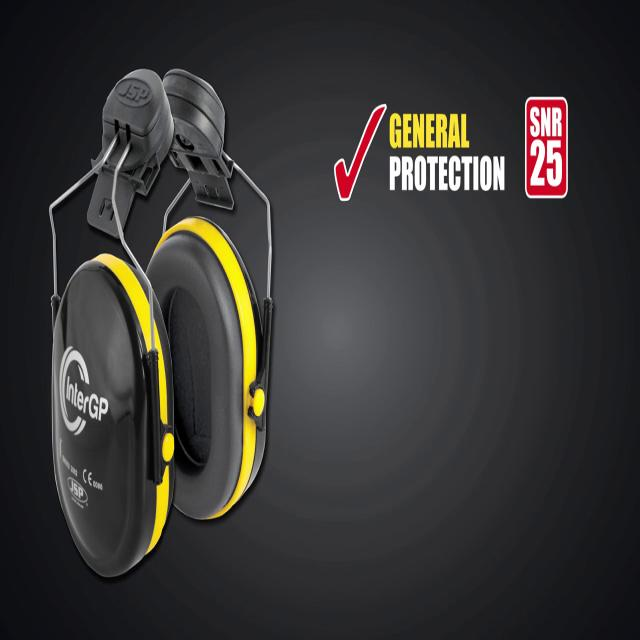earmuff: (46, 247, 178, 570), (142, 211, 270, 527)
